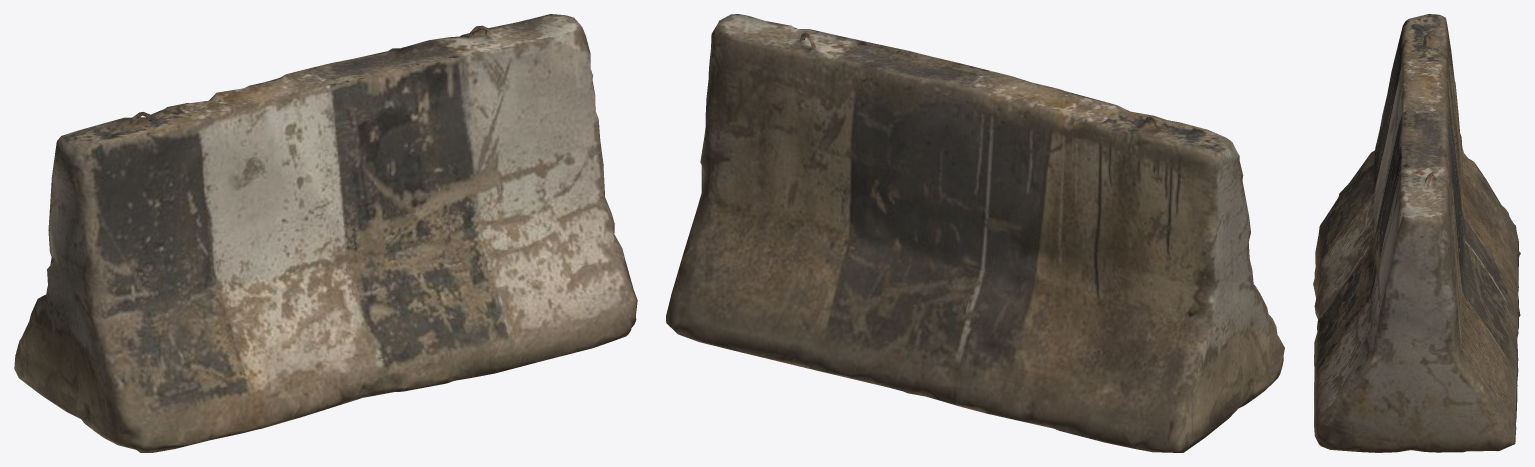
Rendered from concrete_road_barrier.glb.
The picture shows the model from 3 angles, left to right: view 1: azimuth 30°, elevation 25°; view 2: azimuth 150°, elevation 25°; view 3: azimuth 270°, elevation 25°; orthographic projection. The views are drawn at different scales.
Visible parts, largest first — view 1: concrete_road_barrier; view 2: concrete_road_barrier; view 3: concrete_road_barrier.
Boxes of the visible parts, box(x1,y1,x2,y2) form: concrete_road_barrier: box(14, 14, 637, 452); concrete_road_barrier: box(666, 14, 1284, 452); concrete_road_barrier: box(1313, 14, 1520, 452).
Size of the model in its own units: 1.54 by 0.8299 by 0.6387.
1 material, 1 textured.
